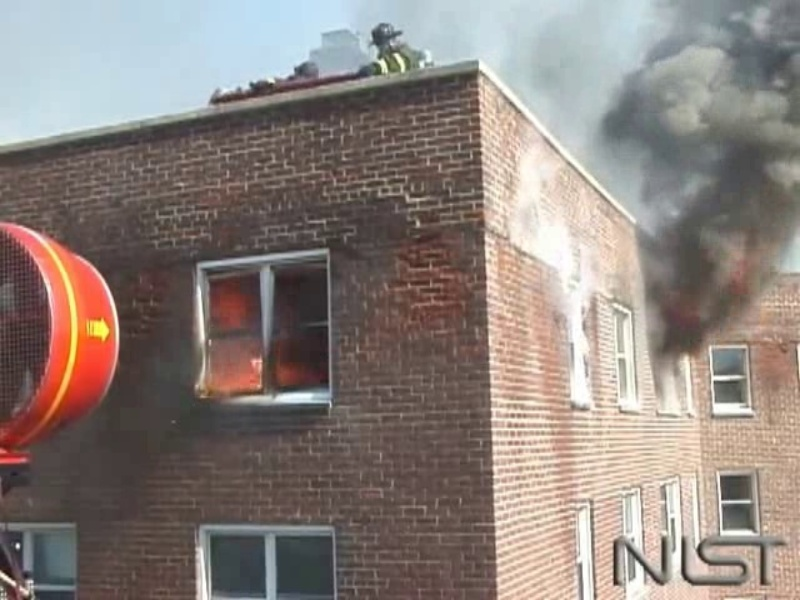smoke: (613, 1, 797, 257)
